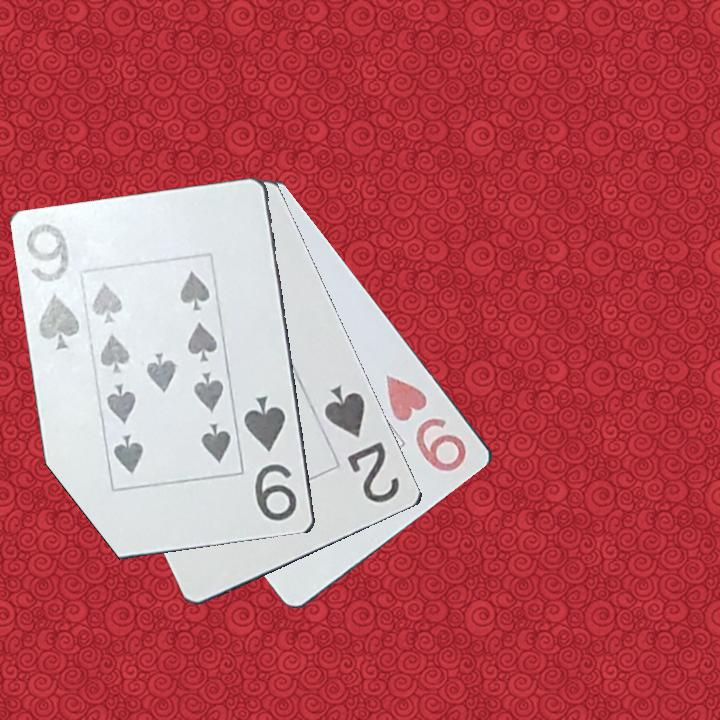2s: (321, 382, 404, 507)
9h: (382, 367, 471, 475)
9s: (23, 220, 85, 353), (240, 392, 301, 525)
